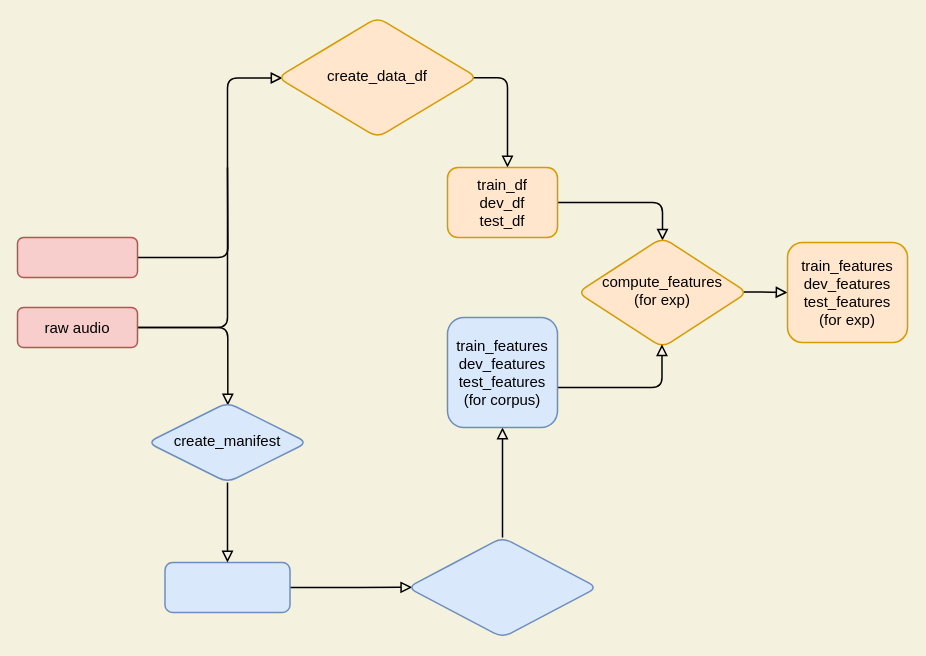
This 926x656 diagram has some shape labels left out. Each missing label, with the centre of its shape:
"compute_features (for corpus)" goes at (x=502, y=587).
"icsi_manifest" goes at (x=227, y=587).
"transcripts" goes at (x=77, y=257).
